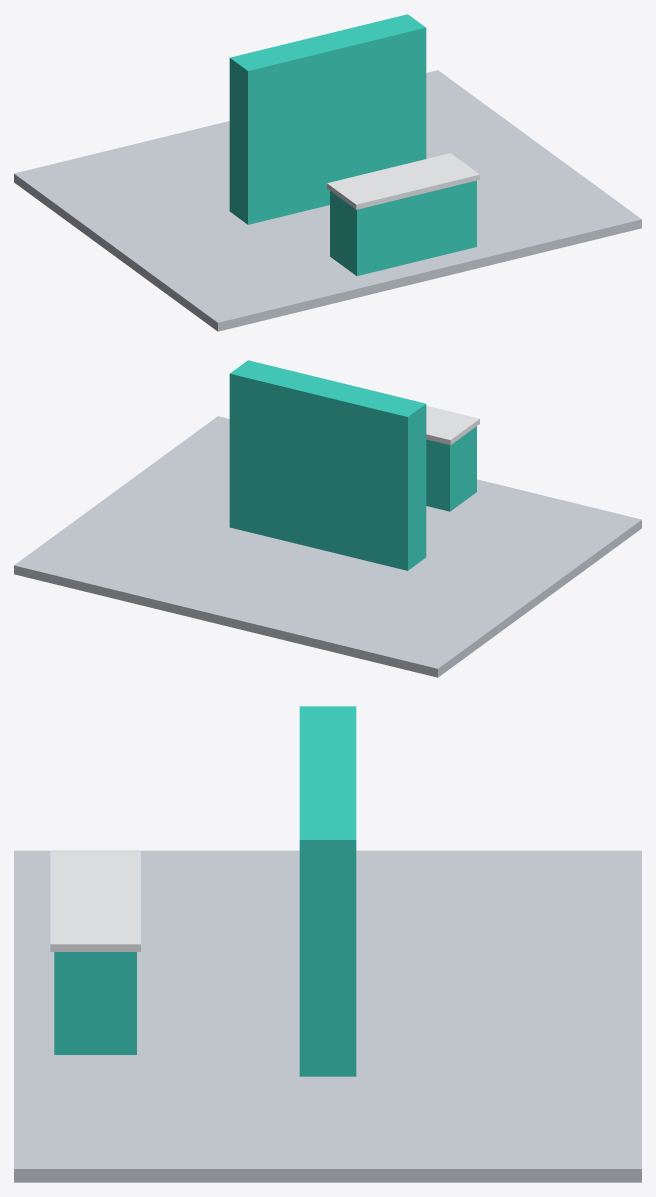
The picture shows the model from 3 angles, top to bottom: view 1: azimuth 30°, elevation 25°; view 2: azimuth 150°, elevation 25°; view 3: azimuth 270°, elevation 25°; orthographic projection. The views are drawn at different scales.
Parts seen in each view (by area): view 1: Exhibition Booth Concept; view 2: Exhibition Booth Concept; view 3: Exhibition Booth Concept.
Part boxes in pixels (box(x1,y1,x2,y2)): Exhibition Booth Concept: box(14, 14, 641, 331); Exhibition Booth Concept: box(14, 360, 641, 677); Exhibition Booth Concept: box(14, 706, 641, 1182).
Bounding box in the file's own units: 6 × 2.2 × 5.
